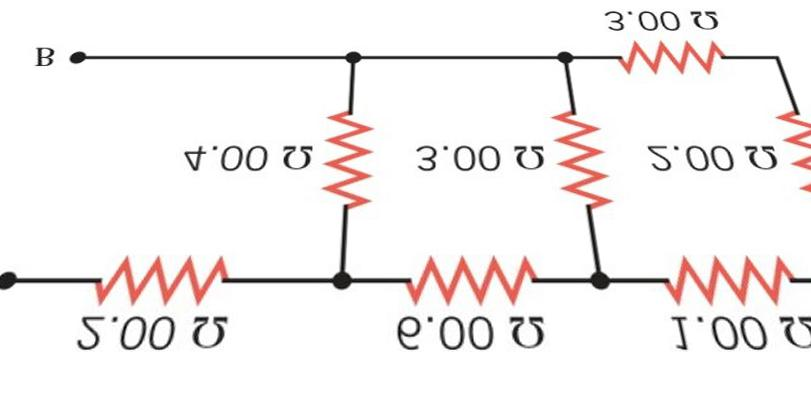resistor: (398, 239, 553, 308), (69, 247, 246, 306), (655, 244, 799, 311), (547, 90, 615, 221), (609, 28, 735, 95), (315, 93, 375, 214)
